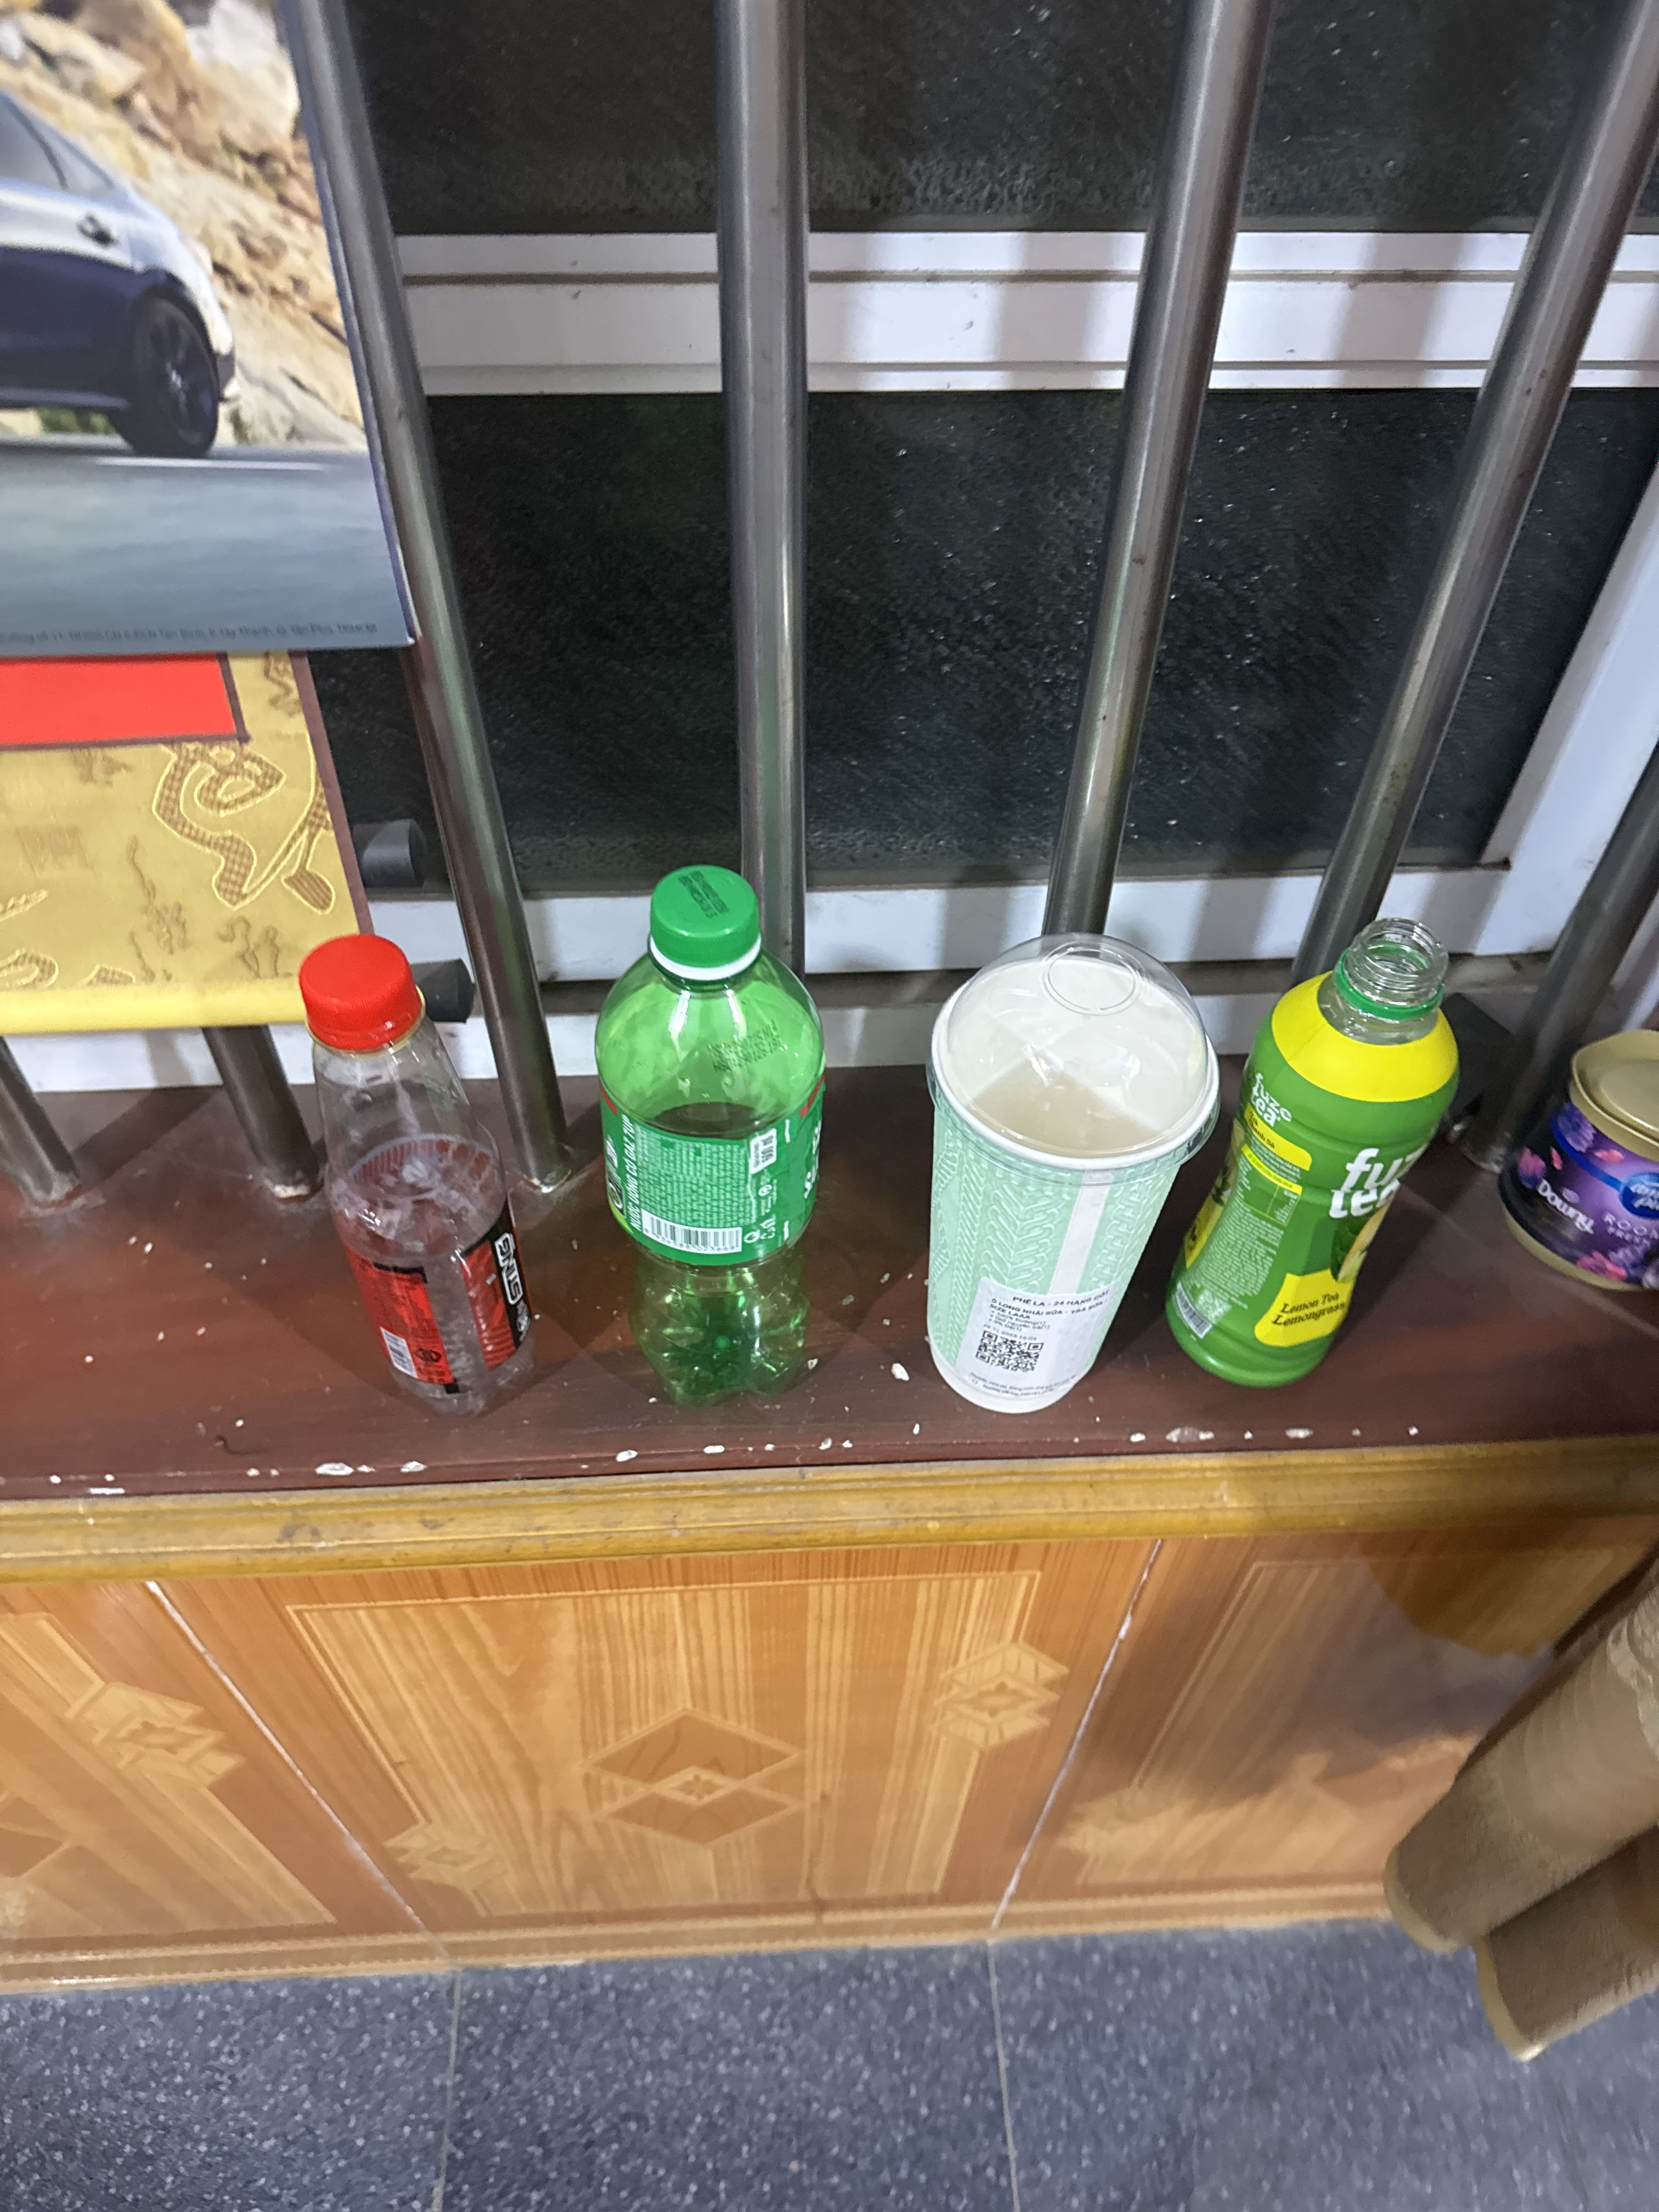2: (896, 906, 1225, 1453)
bottle: (1155, 894, 1486, 1400), (251, 921, 570, 1432), (582, 853, 864, 1428)
